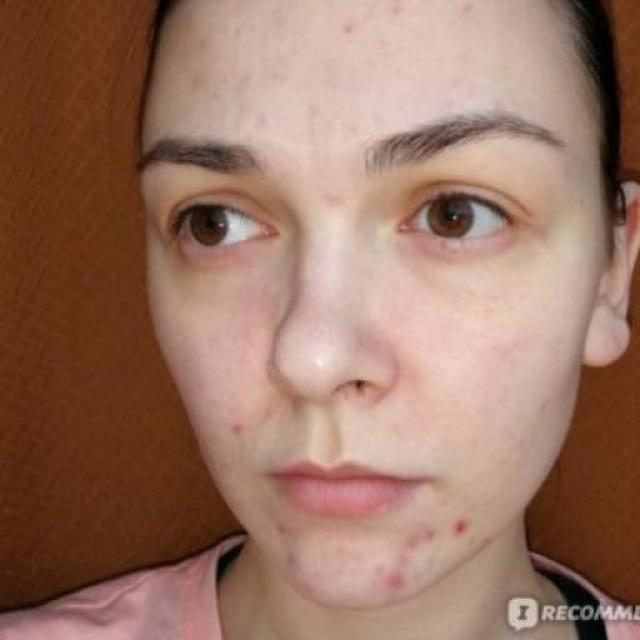Acne: (223, 421, 470, 592)
